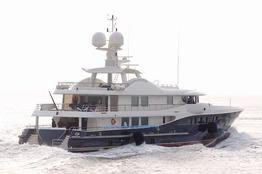yacht: (17, 10, 243, 153)
